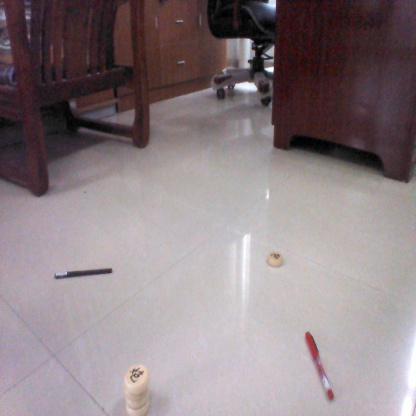chess: (123, 364, 154, 416), (266, 252, 287, 268)
pen: (299, 329, 338, 402), (49, 268, 117, 280)
